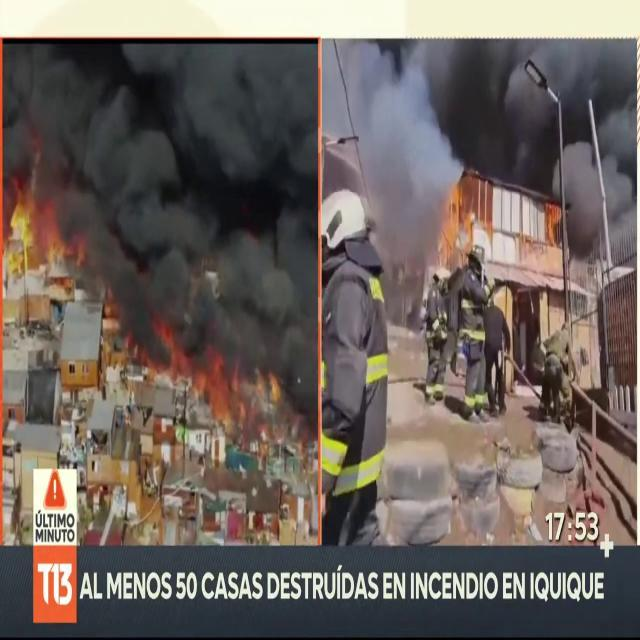Fire: (3, 182, 83, 298), (188, 348, 282, 442), (432, 172, 482, 276)
Smoke: (6, 40, 318, 352), (321, 39, 637, 252)
